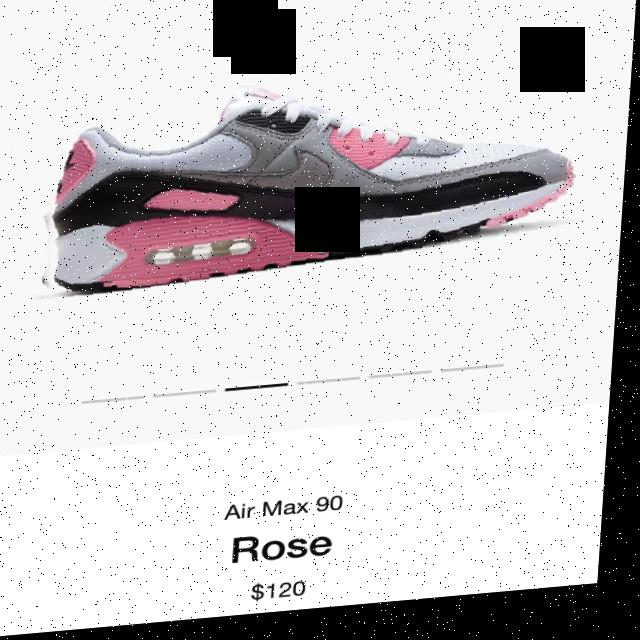shoe: (33, 63, 634, 338)
